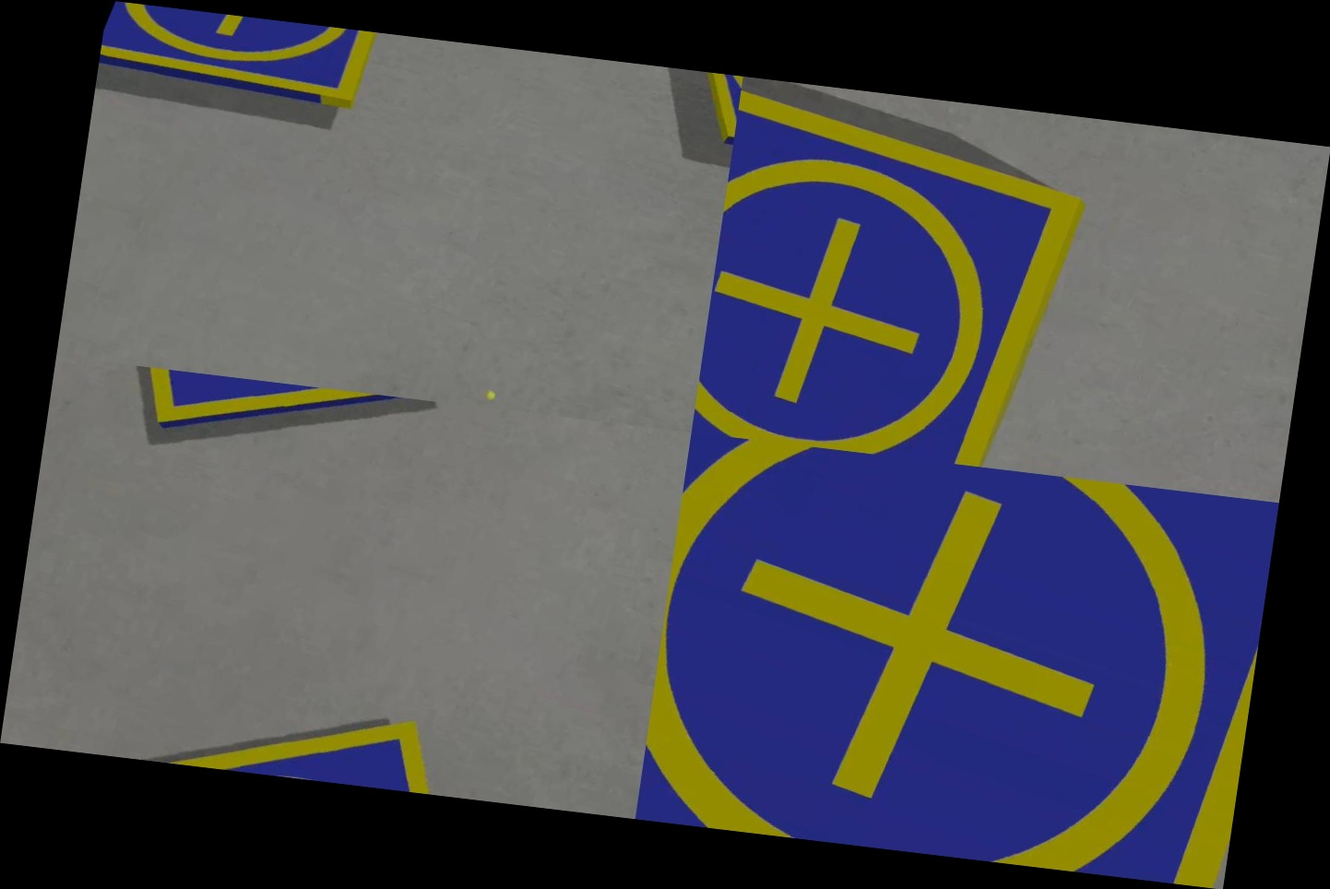small_base: (635, 433, 1278, 889), (691, 77, 1101, 475), (48, 614, 588, 811), (40, 356, 500, 523), (91, 0, 399, 150)
